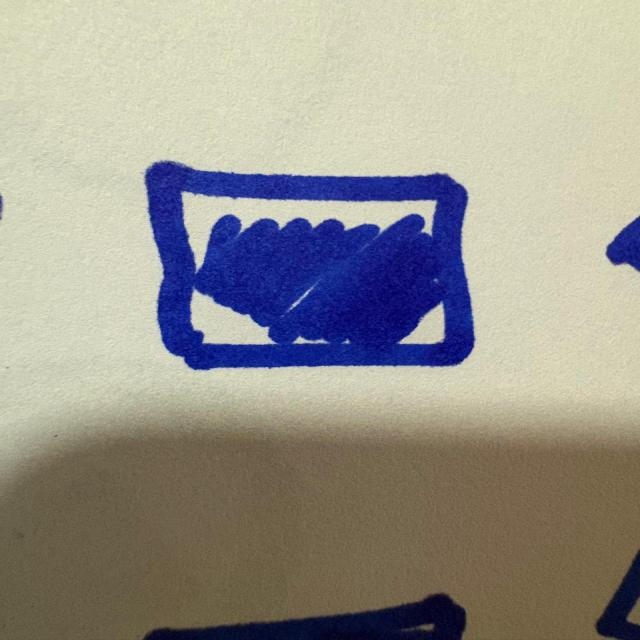Square: (134, 154, 486, 378)
